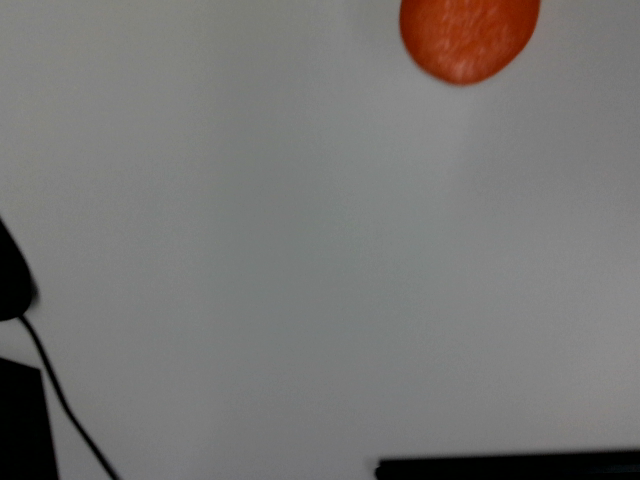orange: (400, 0, 540, 84)
